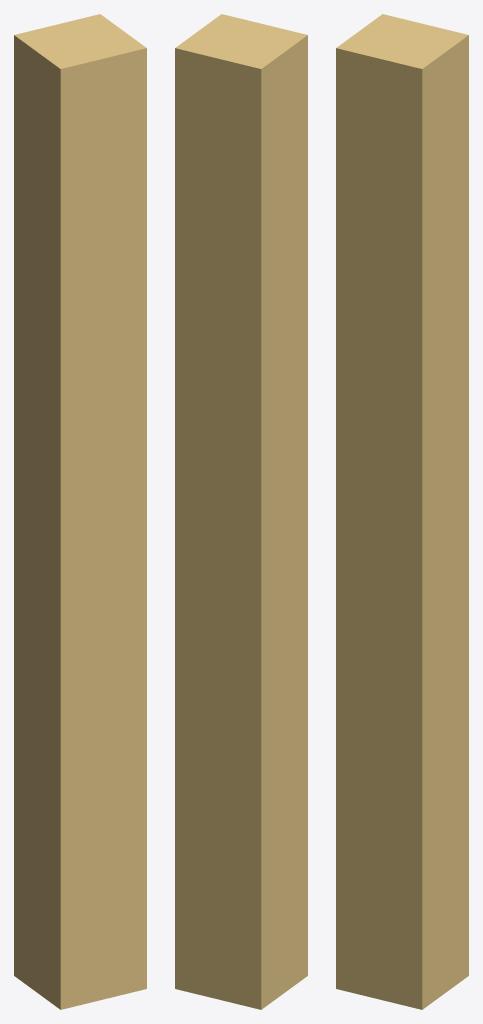
The model's file is SallePasPerdus_Coin00.fbx.
3 views of the same model, side by side, from view 1: azimuth 30°, elevation 25°; view 2: azimuth 150°, elevation 25°; view 3: azimuth 330°, elevation 25° (orthographic).
Parts seen in each view (by area): view 1: Coin00; view 2: Coin00; view 3: Coin00.
Boxes of the visible parts, left/top/right/bottom form: Coin00: left=14, top=14, right=146, bottom=1009; Coin00: left=175, top=14, right=307, bottom=1009; Coin00: left=336, top=14, right=468, bottom=1009.
Size of the model in its own units: 0.5702 by 5.94 by 0.5339.
